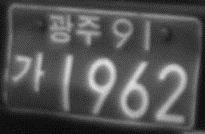1: (59, 52, 75, 118), (142, 18, 153, 52)
2: (154, 61, 190, 124)
6: (118, 61, 150, 118)
9: (87, 55, 116, 117), (110, 17, 135, 49)
가: (11, 51, 46, 93)
광주_O: (47, 12, 102, 47)
